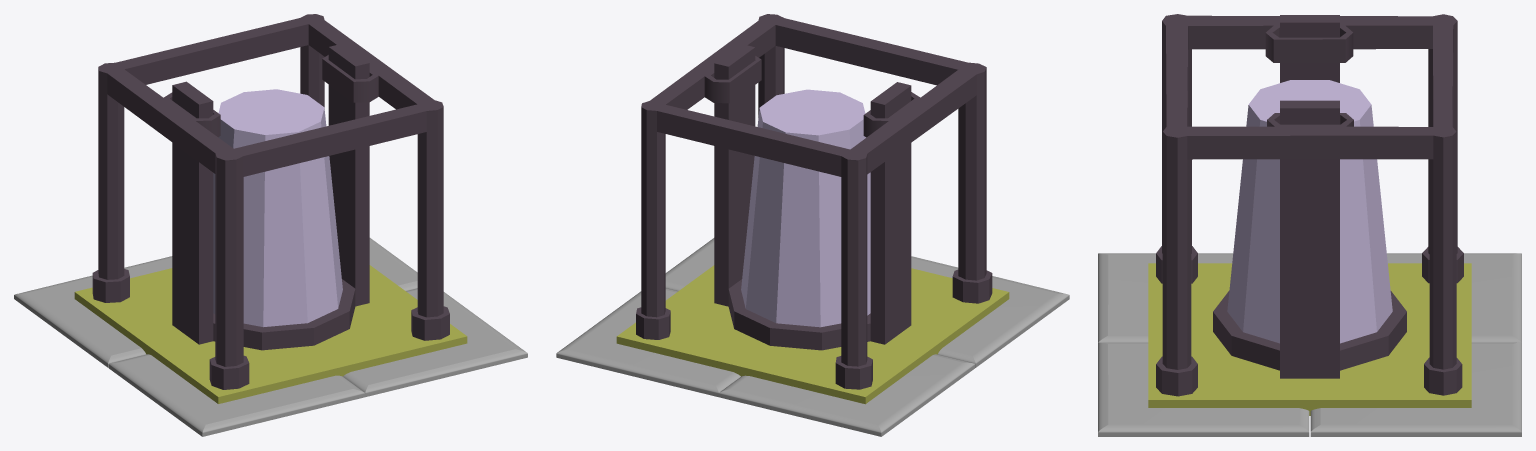
The model's file is JA_Midterms_121720_breedingpod.fbx.
3 views of the same model, side by side, from view 1: azimuth 30°, elevation 25°; view 2: azimuth 150°, elevation 25°; view 3: azimuth 270°, elevation 25° (orthographic). The views are drawn at different scales.
Visible parts, largest first — view 1: pCube5, pCylinder1, pCube2, JA_Midterms_121720_tile:Tile:pCube2, pCube3, pCube4; view 2: pCube5, pCylinder1, pCube3, pCube4, pCube2, JA_Midterms_121720_tile:Tile:pCube2; view 3: pCube5, pCylinder1, JA_Midterms_121720_tile:Tile:pCube2, pCube4, pCube2, pCube3.
Part boxes in pixels (left/top/right/bottom): pCube5: left=74, top=14, right=467, bottom=403; pCylinder1: left=172, top=43, right=369, bottom=350; pCube2: left=108, top=354, right=364, bottom=436; JA_Midterms_121720_tile:Tile:pCube2: left=343, top=288, right=527, bottom=397; pCube3: left=14, top=256, right=172, bottom=367; pCube4: left=369, top=238, right=417, bottom=290; pCube5: left=616, top=14, right=1009, bottom=404; pCylinder1: left=714, top=44, right=911, bottom=350; pCube3: left=718, top=354, right=975, bottom=436; pCube4: left=556, top=288, right=740, bottom=397; pCube2: left=911, top=256, right=1069, bottom=367; JA_Midterms_121720_tile:Tile:pCube2: left=665, top=238, right=714, bottom=291; pCube5: left=1148, top=14, right=1471, bottom=415; pCylinder1: left=1213, top=15, right=1406, bottom=378; JA_Midterms_121720_tile:Tile:pCube2: left=1098, top=342, right=1309, bottom=436; pCube4: left=1310, top=342, right=1521, bottom=436; pCube2: left=1098, top=253, right=1233, bottom=342; pCube3: left=1387, top=253, right=1521, bottom=342.
Bounding box in the file's own units: 23.99 × 17.91 × 24.06.
